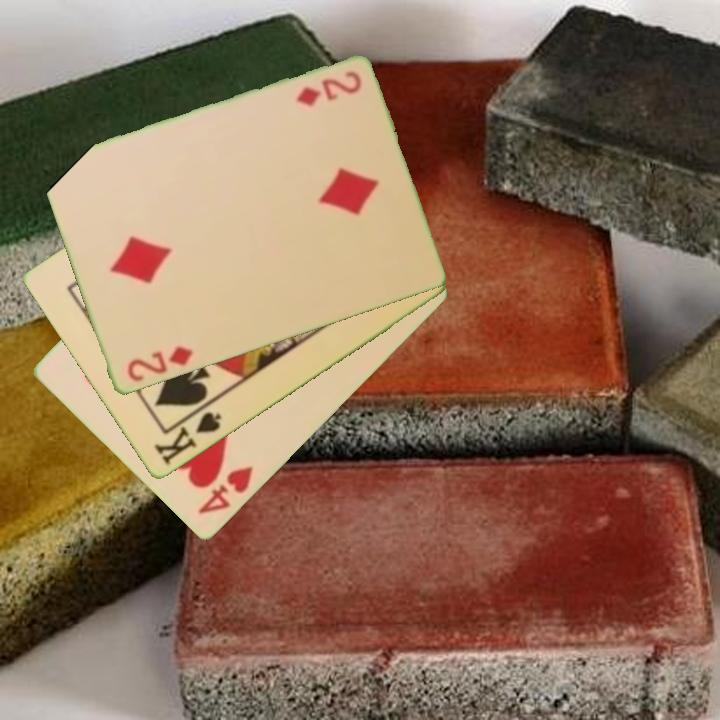2d: (292, 68, 364, 111), (123, 343, 195, 385)
4h: (194, 462, 257, 518)
Ks: (150, 401, 225, 469)
